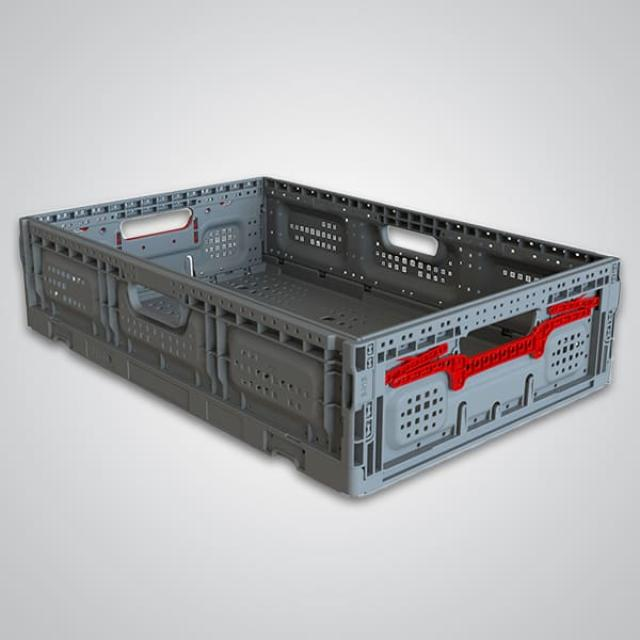basket: (0, 124, 639, 546)
